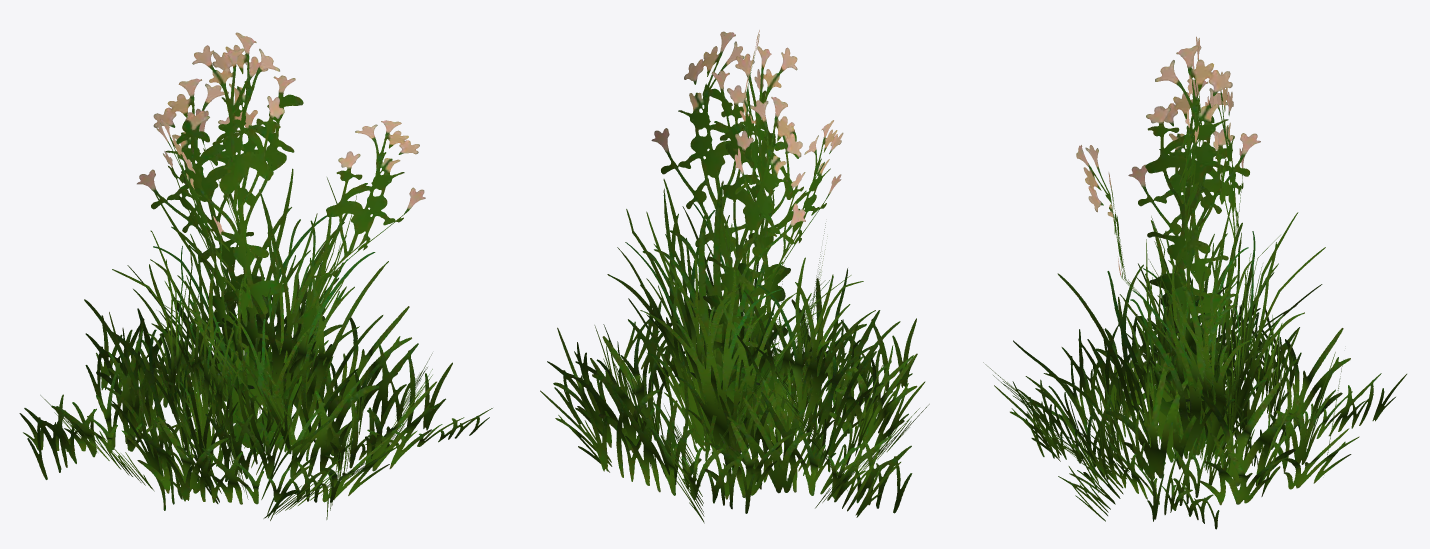
3 renders of one model, left to right at view 1: azimuth 30°, elevation 25°; view 2: azimuth 150°, elevation 25°; view 3: azimuth 270°, elevation 25°, orthographic. The views are drawn at different scales.
Visible parts, largest first — view 1: SM_BM_GrassLong_04_LOD0; view 2: SM_BM_GrassLong_04_LOD0; view 3: SM_BM_GrassLong_04_LOD0.
Boxes of the visible parts, <box> form: SM_BM_GrassLong_04_LOD0: <box>19,32,492,520</box>; SM_BM_GrassLong_04_LOD0: <box>540,30,929,523</box>; SM_BM_GrassLong_04_LOD0: <box>983,36,1406,529</box>.
Bounding box in the file's own units: 0.9126 × 1.02 × 0.9146.
Materials: 1 (1 with a texture image).
